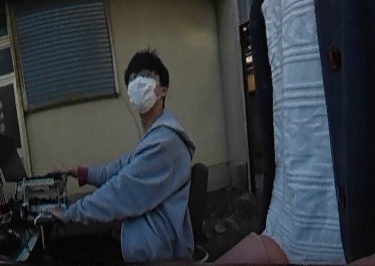person: (44, 50, 197, 266)
